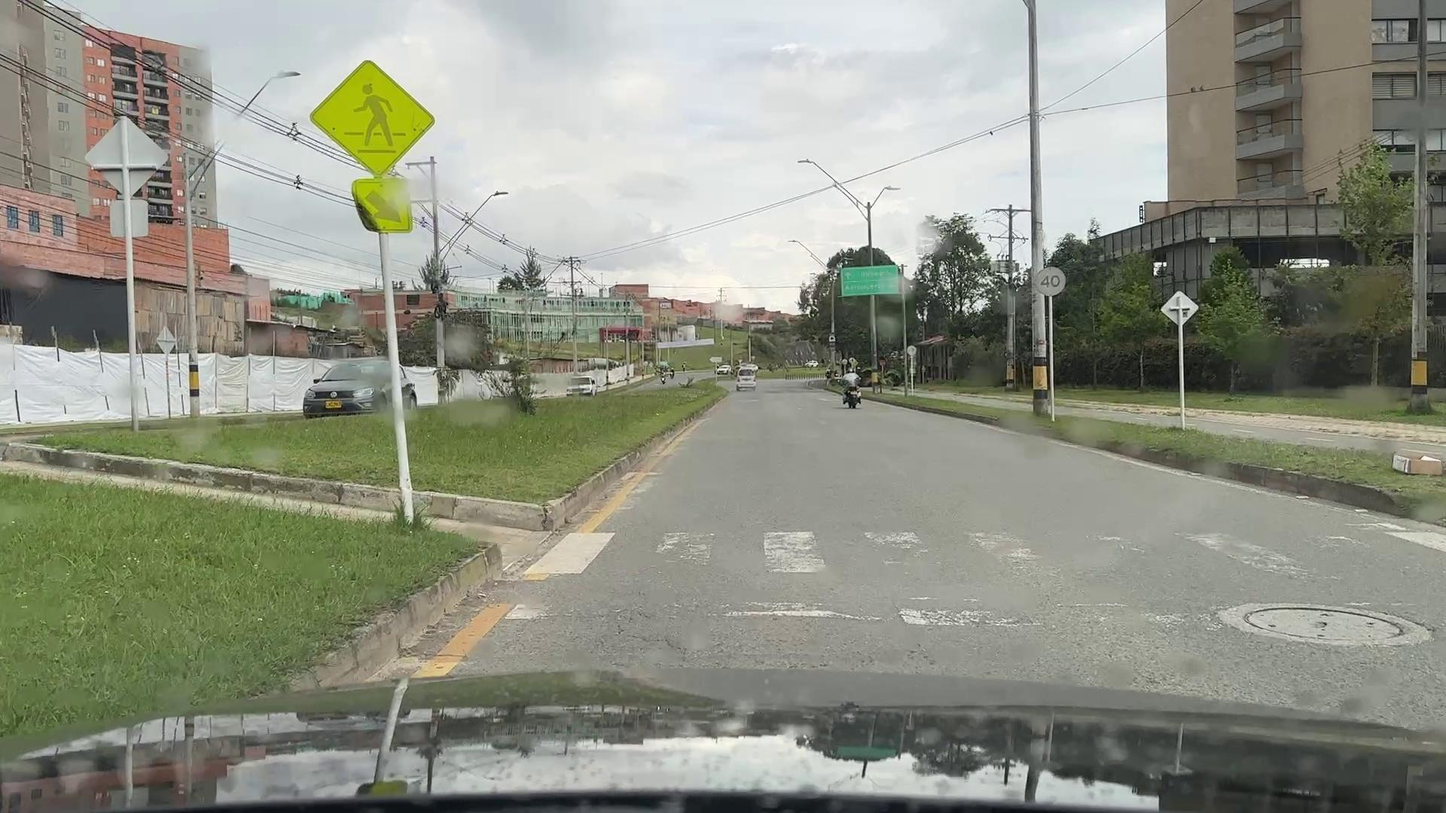registro: (1243, 607, 1403, 640)
